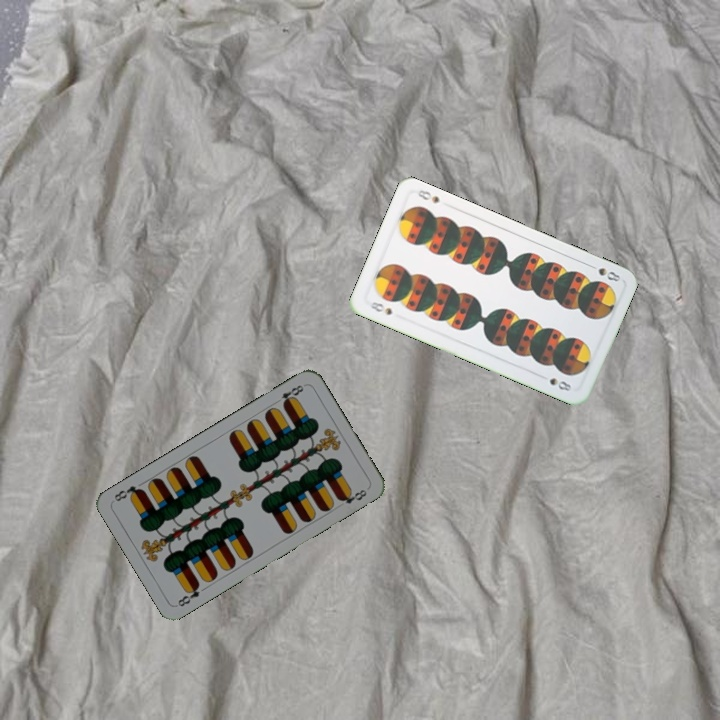E8: (173, 579, 203, 609), (277, 381, 308, 408)
S8: (584, 260, 624, 284), (366, 297, 395, 318)
